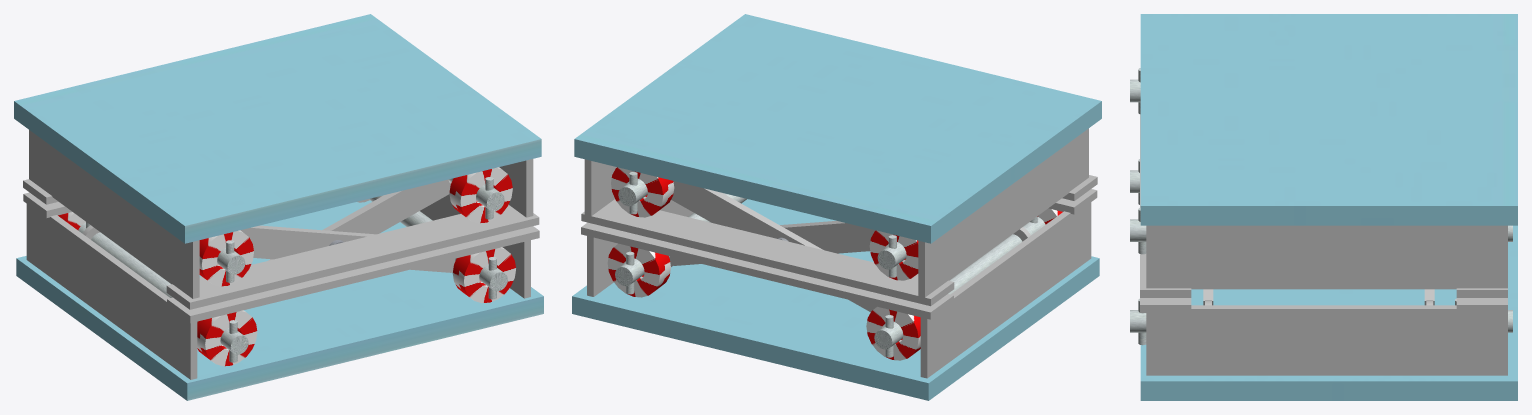
File: MovingPlatform.fbx
3 renders of one model, left to right at view 1: azimuth 30°, elevation 25°; view 2: azimuth 150°, elevation 25°; view 3: azimuth 270°, elevation 25°, orthographic. The views are drawn at different scales.
Parts seen in each view (by area): view 1: Base1, Base, arm4, arm5, wheel4, wheel, wheel1, axel2, wheel5, axel1, axel3, axel4; view 2: Base1, Base, arm1, arm, axel2, wheel3, wheel2, wheel7, wheel6, axel1, axel3, axel4; view 3: Base1, Base, axel1, axel3.
Part boxes in pixels (x1,y1,x2,y2): Base1: (14, 14, 541, 309); Base: (16, 180, 543, 400); arm4: (268, 179, 451, 260); arm5: (240, 225, 455, 272); wheel4: (449, 167, 512, 223); wheel: (452, 247, 515, 303); wheel1: (197, 310, 257, 366); axel2: (78, 222, 248, 362); wheel5: (199, 230, 253, 286); axel1: (369, 195, 507, 299); axel3: (448, 177, 504, 219); axel4: (217, 240, 245, 282); Base1: (574, 14, 1101, 306); Base: (572, 189, 1099, 400); arm1: (671, 181, 876, 312); arm: (669, 220, 875, 266); axel2: (874, 216, 1045, 357); wheel3: (607, 243, 670, 297); wheel2: (866, 306, 920, 360); wheel7: (611, 167, 674, 217); wheel6: (869, 230, 918, 280); axel1: (615, 193, 746, 294); axel3: (618, 172, 647, 214); axel4: (877, 235, 906, 277); Base1: (1140, 14, 1517, 297); Base: (1140, 225, 1517, 400); axel1: (1130, 298, 1512, 345); axel3: (1130, 207, 1512, 254).
Bounding box in the file's own units: 10.86 × 5.07 × 9.21.
